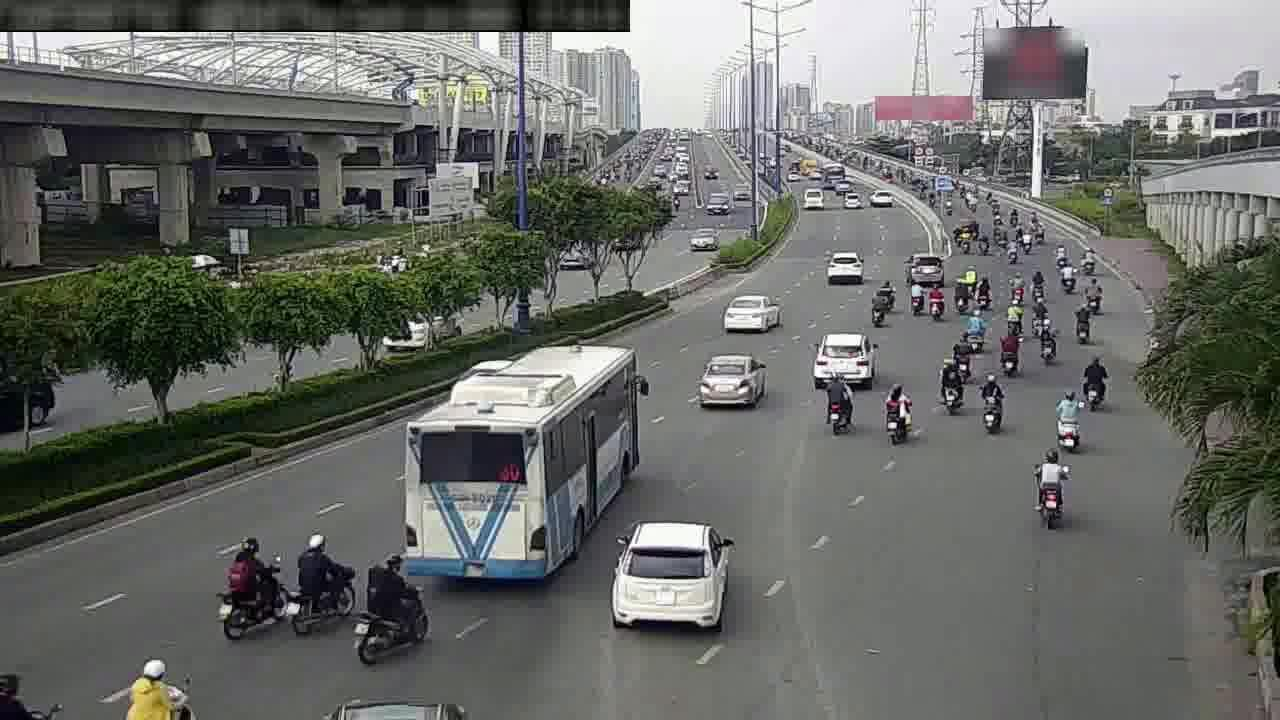14: (428, 345, 633, 562)
container: (605, 511, 739, 634), (692, 340, 771, 413), (806, 325, 880, 386), (722, 284, 782, 338), (822, 243, 868, 285), (901, 246, 948, 284)
motorbike: (349, 550, 437, 661), (214, 530, 292, 638), (285, 525, 361, 629), (113, 652, 198, 719), (1027, 444, 1075, 526), (875, 380, 917, 446), (816, 371, 857, 436), (1046, 391, 1088, 454), (972, 372, 1013, 436), (1073, 354, 1113, 413), (935, 356, 969, 414), (995, 328, 1027, 378), (861, 283, 893, 330), (1033, 319, 1063, 368), (1067, 303, 1098, 346), (901, 276, 929, 317), (1079, 275, 1108, 313), (922, 282, 949, 322), (952, 333, 976, 378), (1000, 295, 1027, 334), (973, 275, 998, 313), (970, 305, 991, 349), (950, 276, 974, 314), (1030, 296, 1054, 333), (1059, 258, 1077, 291), (1030, 267, 1045, 297)
